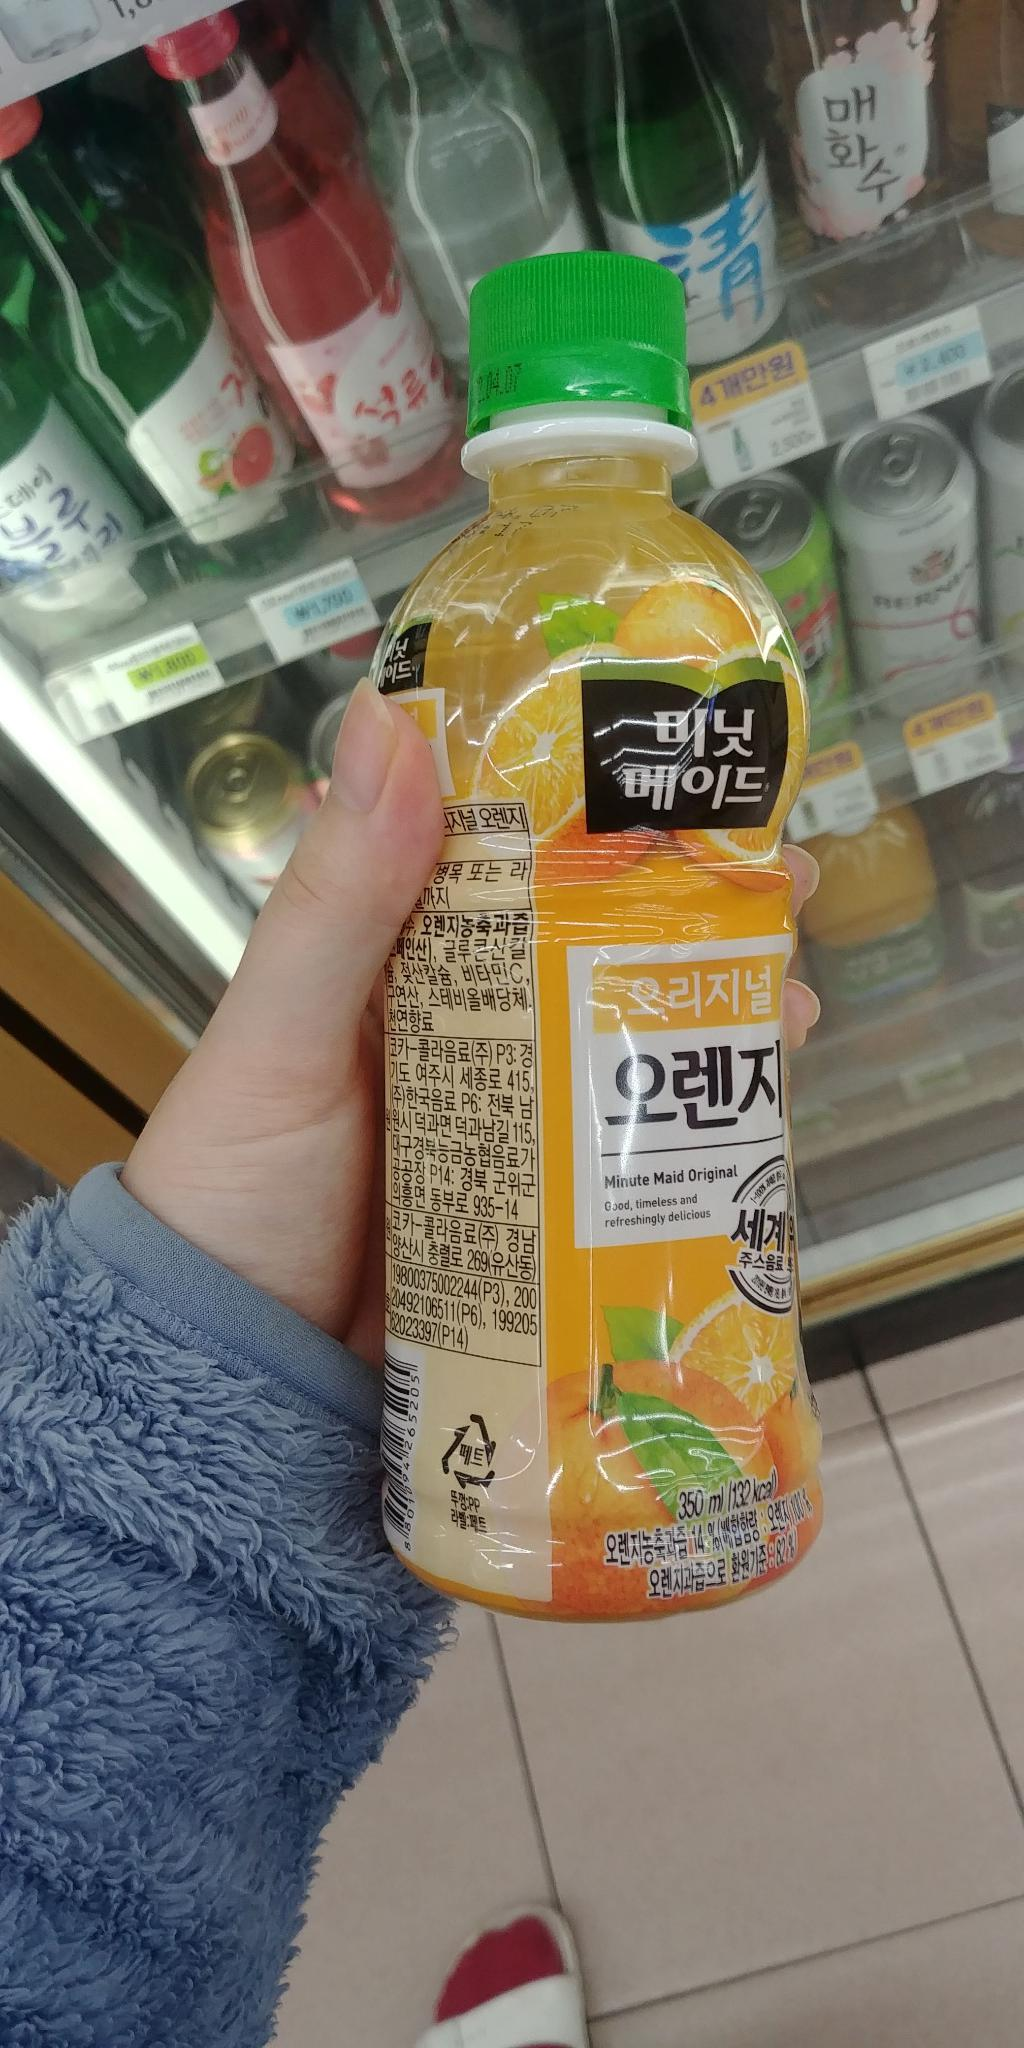minutemaid_org_orange: (338, 239, 846, 1629)
